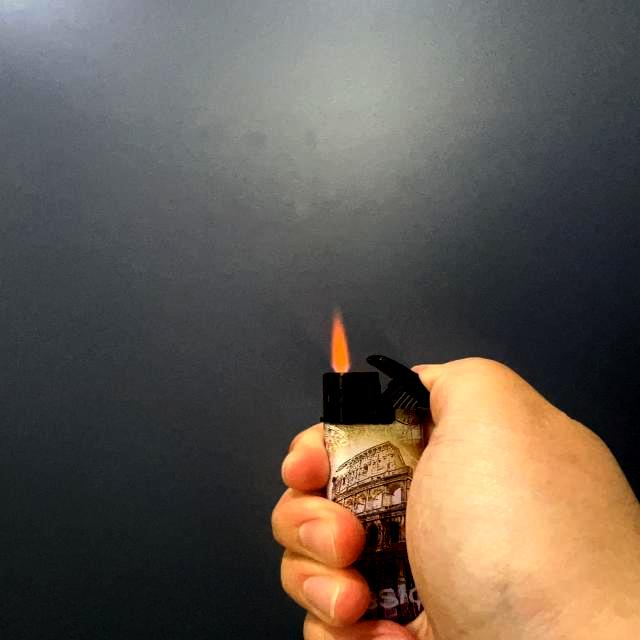fire: (328, 309, 352, 375)
